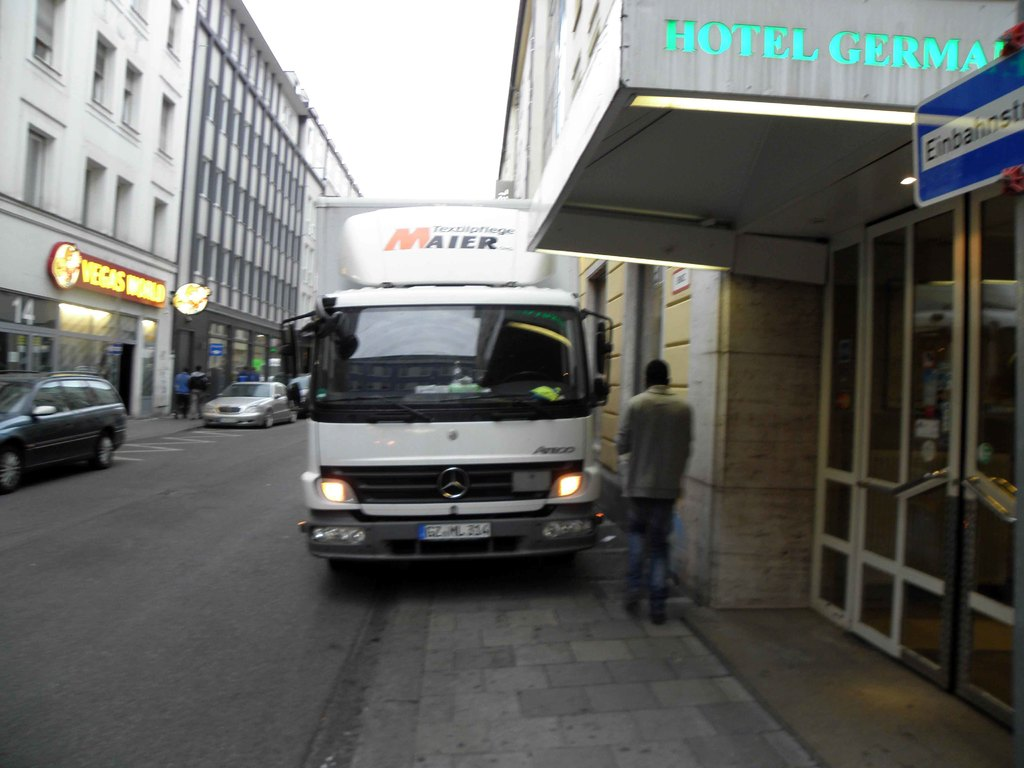Car: (0, 371, 127, 494), (199, 383, 296, 428), (289, 377, 312, 417), (271, 371, 308, 385)
